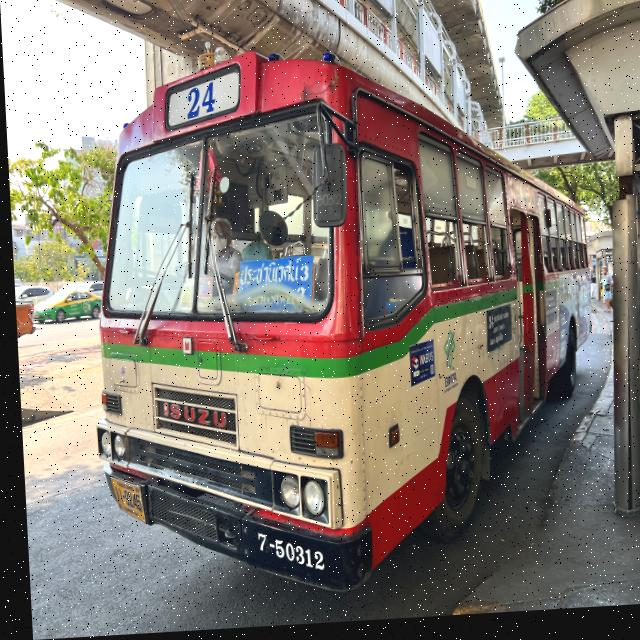BMTA-bus: (75, 41, 599, 608)
Bus-Line-Number: (157, 64, 243, 135)
Destination-Sign-Normal: (231, 259, 313, 319)
